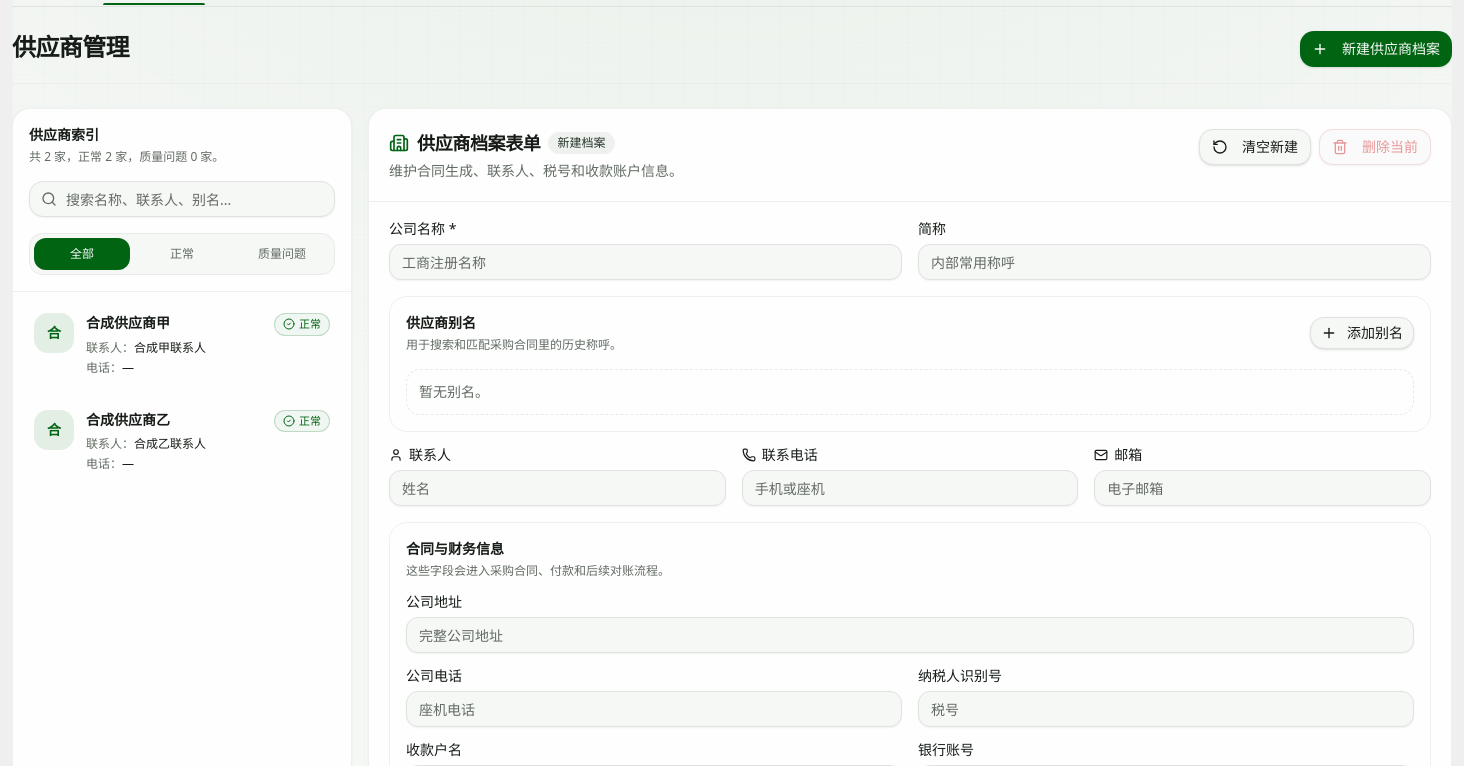
Test: supplier editor interrupted sessions (synthetic fixtures) › late save refresh cannot reset another selected supplier or its search
The image size is (1464, 766).
Click the button with aria-label "选择供应商 合成供应商甲" at (182, 344), box [21,300,343,388]
(page scrolled)
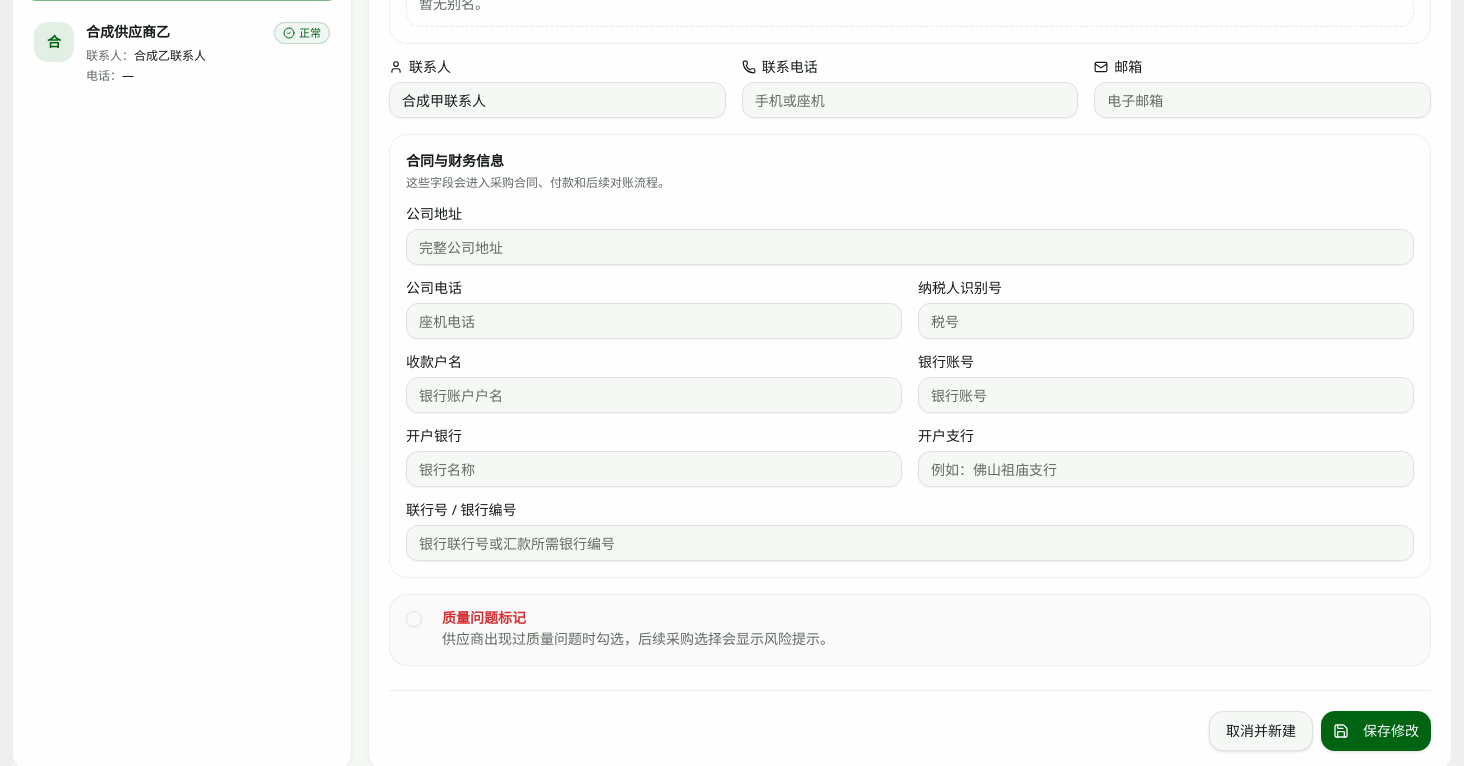
Click the button "保存修改" at (1376, 731), box [1321,711,1431,751]
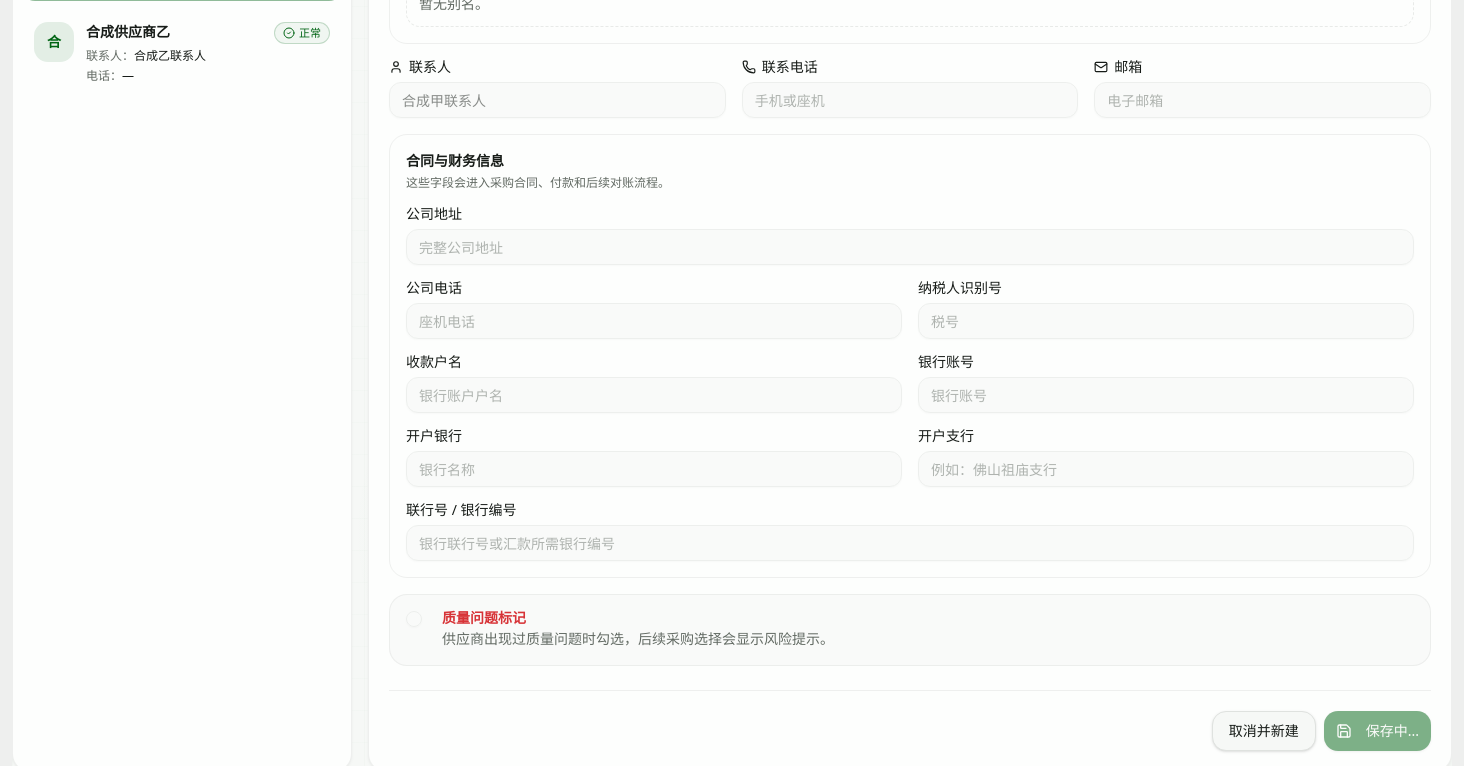
Click the button with aria-label "选择供应商 合成供应商乙" at (182, 53), box [21,8,343,97]
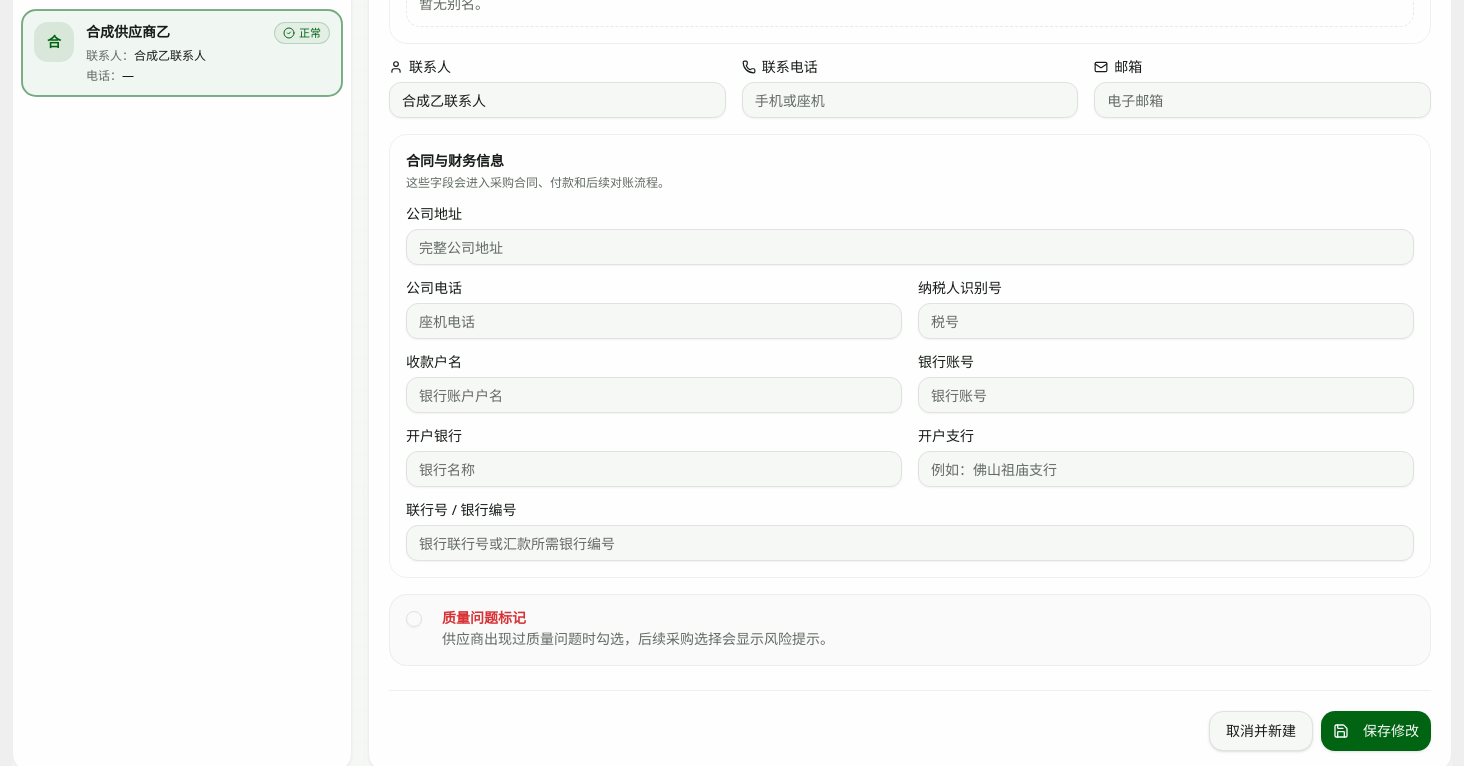
Replace the text in the field labelled "联系人" with "合成乙新草稿" at (557, 100), box [389,82,726,118]
(page scrolled)
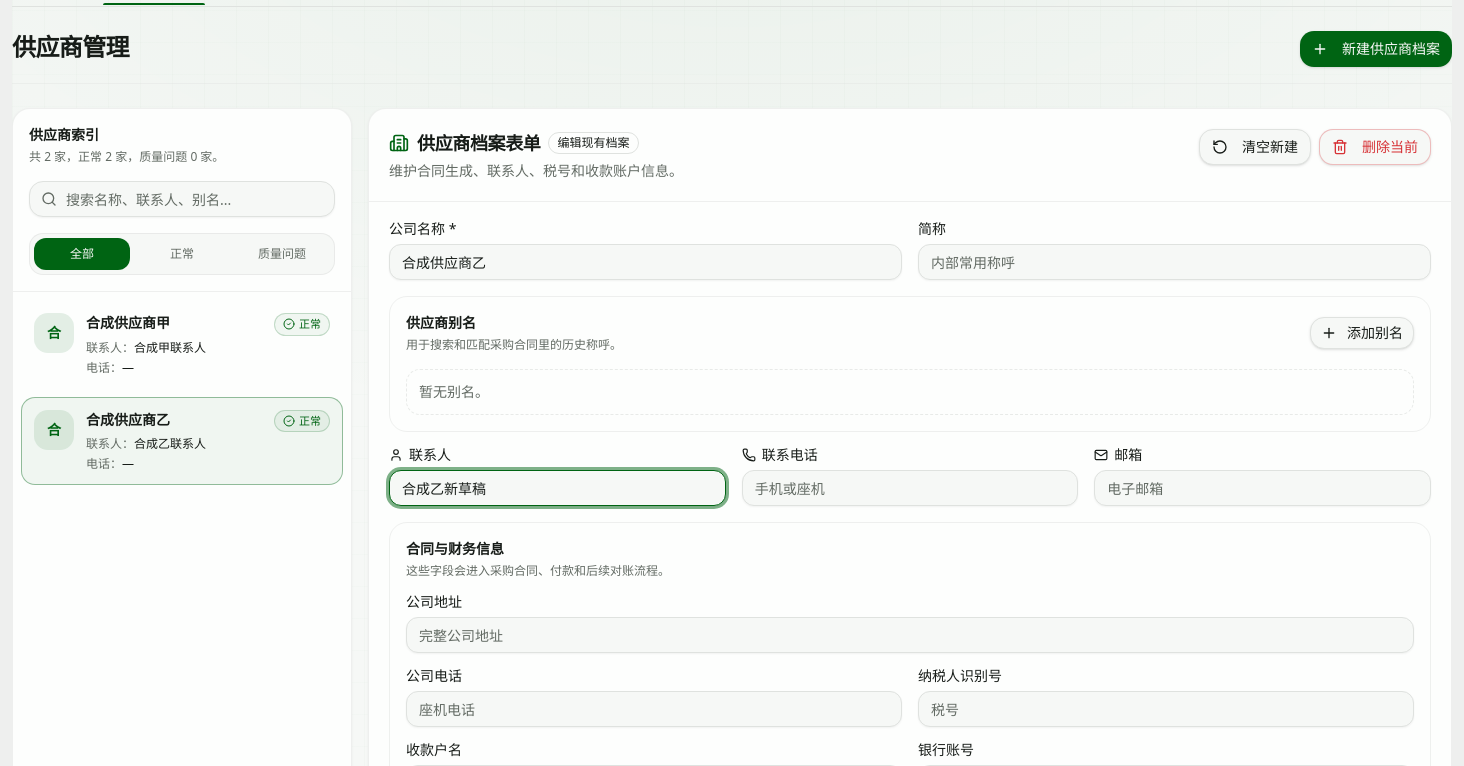
Type "合成供应商乙" into the field with placeholder "搜索名称、联系人、别名..." at (182, 199), box [29,181,335,217]
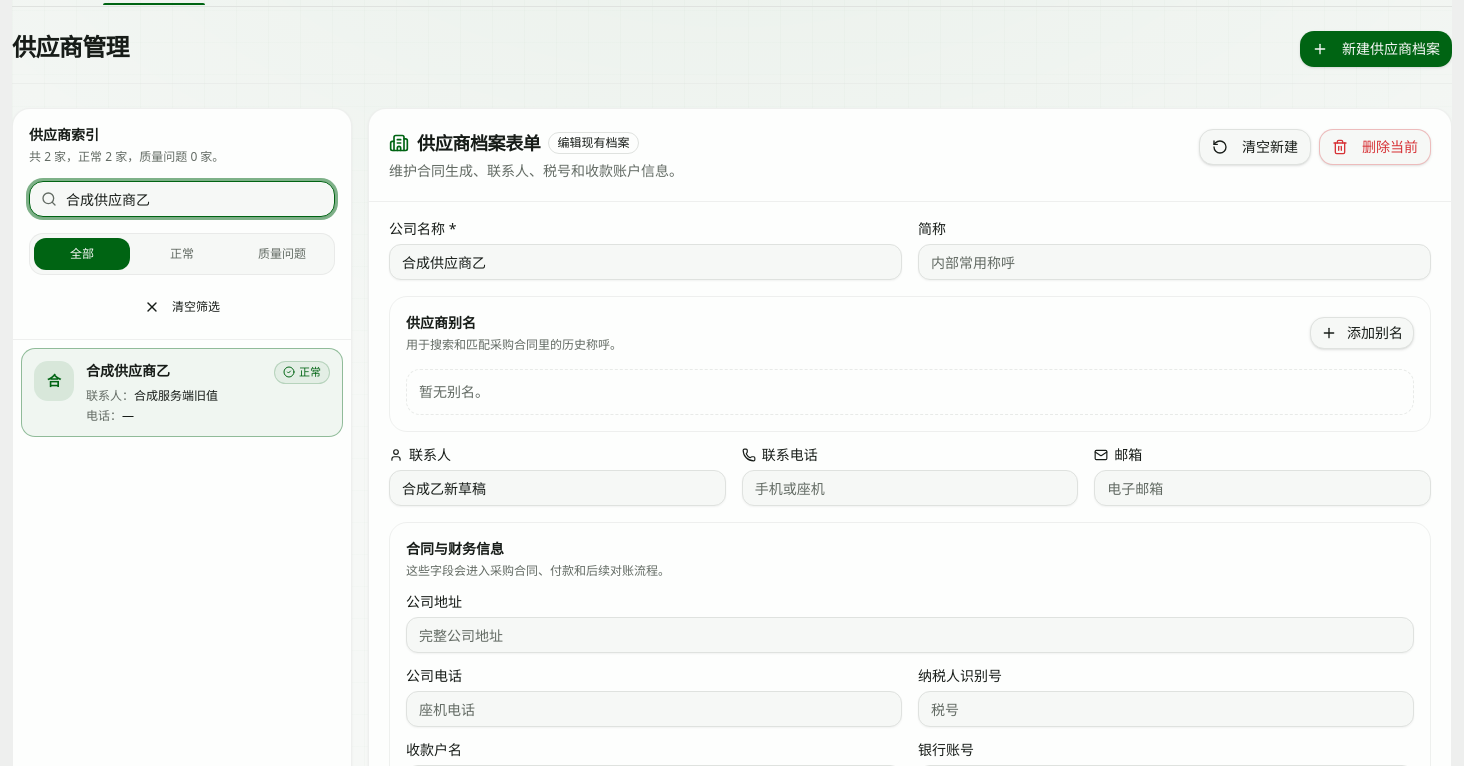
Now the field labelled "公司名称 *" holds "合成供应商乙", box [389,244,902,280]
Now the button with aria-label "选择供应商 合成供应商乙" is shown, box [21,348,343,436]
